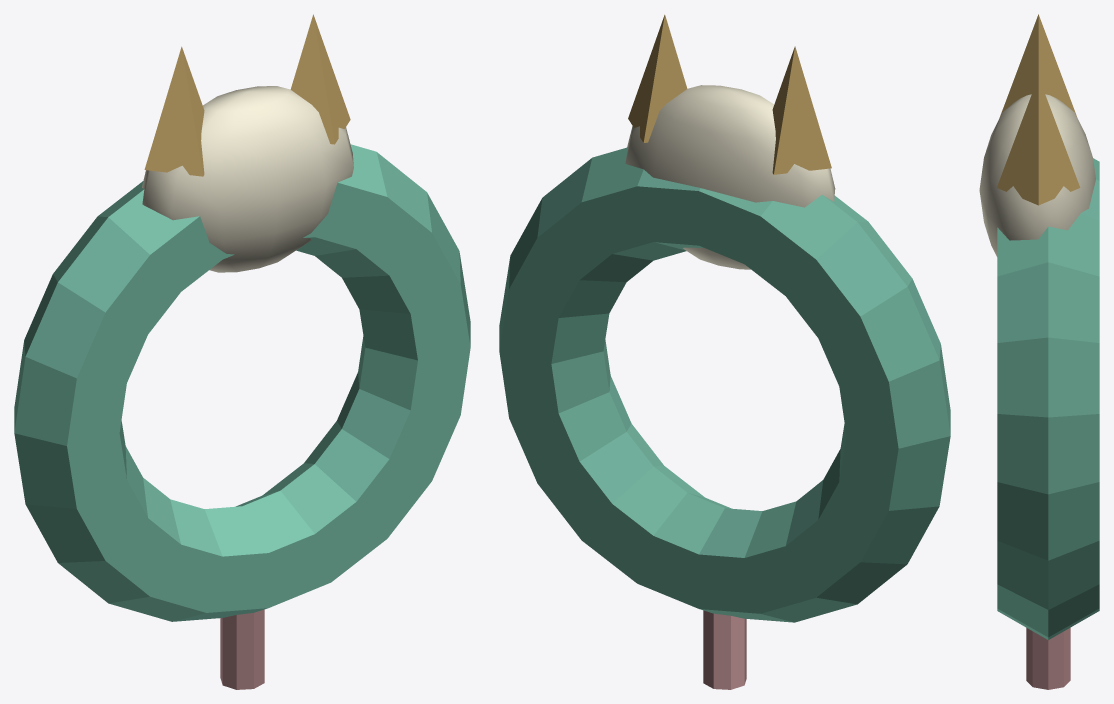
File: qingqiu-jade.glb
3 renders of one model, left to right at view 1: azimuth 30°, elevation 25°; view 2: azimuth 150°, elevation 25°; view 3: azimuth 270°, elevation 25°, orthographic. The views are drawn at different scales.
Parts seen in each view (by area): view 1: qingqiu-jade; view 2: qingqiu-jade; view 3: qingqiu-jade.
Boxes of the visible parts, left/top/right/bottom form: qingqiu-jade: left=14, top=14, right=470, bottom=689; qingqiu-jade: left=499, top=14, right=950, bottom=689; qingqiu-jade: left=979, top=14, right=1099, bottom=689.
Size of the model in its own units: 1.04 by 1.43 by 0.2439.
